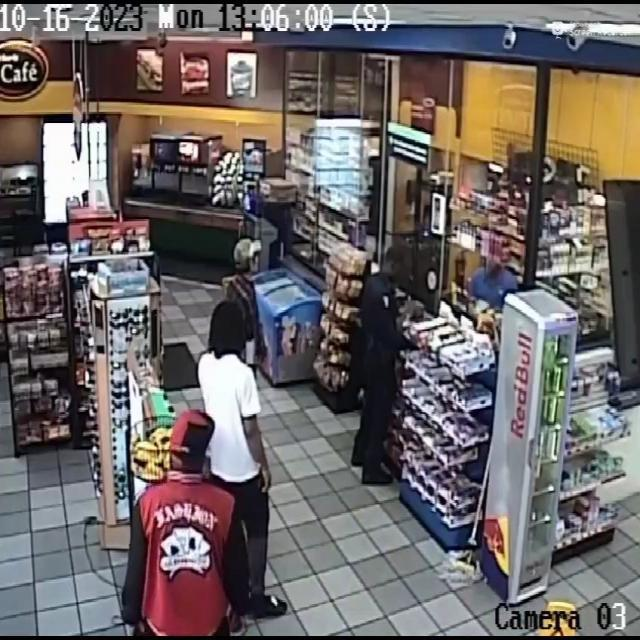Normal: (193, 290, 294, 620), (125, 409, 254, 640), (345, 242, 410, 496), (214, 229, 264, 449)
